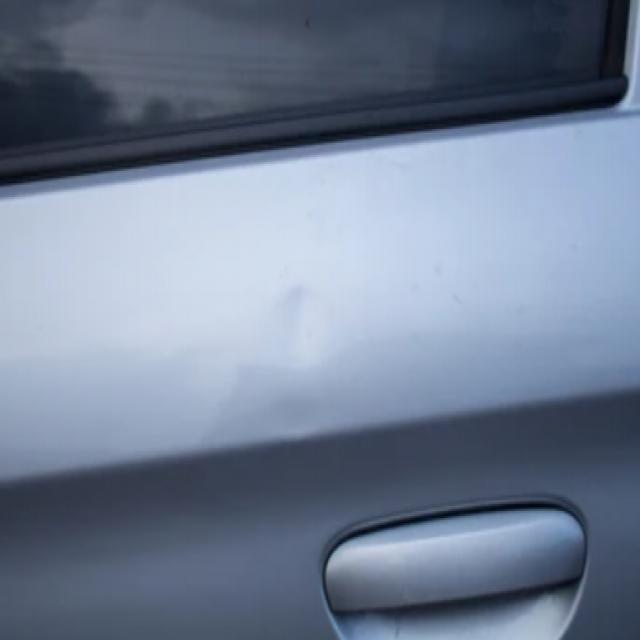dents: (266, 278, 374, 372)
